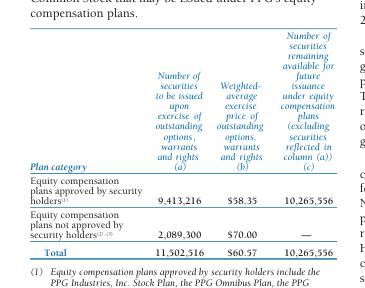table: (29, 29, 334, 257)
table column: (29, 29, 147, 257), (271, 29, 334, 257), (147, 29, 209, 257), (209, 29, 271, 257)
table column header: (29, 29, 334, 172)
table row: (29, 29, 334, 172), (29, 206, 334, 242), (29, 172, 334, 206), (29, 242, 334, 257)
